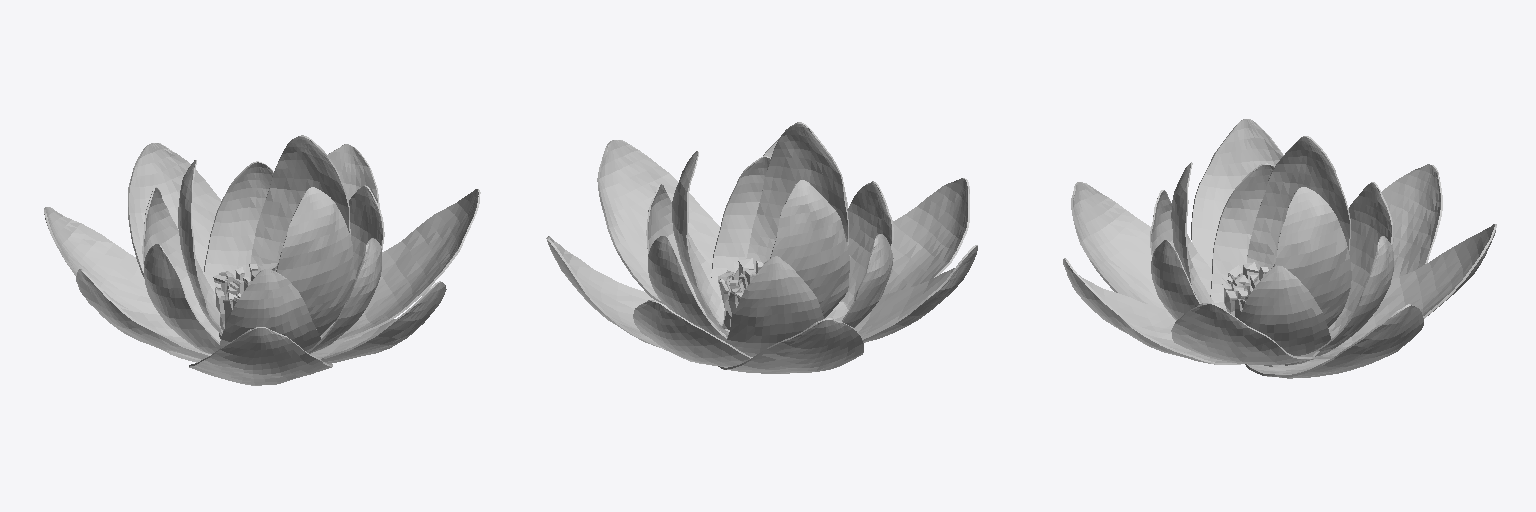
The model's file is lotus1.obj.
3 renders of one model, left to right at view 1: azimuth 30°, elevation 25°; view 2: azimuth 150°, elevation 25°; view 3: azimuth 270°, elevation 25°, orthographic.
Visible parts, largest first — view 1: lotu_petal_13, lotu_petal_02, lotu_petal_14, lotu_petal_00, lotu_petal_06, lotu_petal_04, lotu_petal_11, lotu_petal_08, lotu_petal_09, lotu_petal_05, lotu_petal_03, lotu_petal_15 (+5 smaller); view 2: lotu_petal_02, lotu_petal_15, lotu_petal_13, lotu_petal_04, lotu_petal_10, lotu_petal_06, lotu_petal_05, lotu_petal_00, lotu_petal_01, lotu_petal_07, lotu_petal_08, lotu_petal_11 (+4 smaller); view 3: lotu_petal_14, lotu_petal_04, lotu_petal_15, lotu_petal_05, lotu_petal_12, lotu_petal_00, lotu_petal_06, lotu_petal_02, lotu_petal_03, lotu_petal_01, lotu_petal_09, lotu_petal_10 (+5 smaller).
Part boxes in pixels (bbox=[...]): lotu_petal_13: bbox=[276, 187, 354, 335]; lotu_petal_02: bbox=[320, 189, 480, 343]; lotu_petal_14: bbox=[250, 135, 350, 279]; lotu_petal_00: bbox=[128, 143, 220, 276]; lotu_petal_06: bbox=[44, 207, 200, 362]; lotu_petal_04: bbox=[189, 327, 332, 385]; lotu_petal_11: bbox=[204, 161, 273, 292]; lotu_petal_08: bbox=[218, 269, 320, 351]; lotu_petal_09: bbox=[144, 244, 219, 353]; lotu_petal_05: bbox=[76, 269, 220, 359]; lotu_petal_03: bbox=[310, 281, 446, 363]; lotu_petal_15: bbox=[178, 160, 222, 335]; lotu_petal_02: bbox=[597, 140, 729, 331]; lotu_petal_15: bbox=[770, 180, 849, 317]; lotu_petal_13: bbox=[746, 122, 848, 271]; lotu_petal_04: bbox=[865, 178, 969, 342]; lotu_petal_10: bbox=[726, 256, 824, 356]; lotu_petal_06: bbox=[718, 318, 863, 373]; lotu_petal_05: bbox=[825, 245, 977, 342]; lotu_petal_00: bbox=[633, 300, 752, 366]; lotu_petal_01: bbox=[546, 236, 706, 364]; lotu_petal_07: bbox=[711, 156, 770, 298]; lotu_petal_08: bbox=[840, 181, 893, 309]; lotu_petal_11: bbox=[648, 236, 726, 341]; lotu_petal_14: bbox=[1275, 187, 1351, 327]; lotu_petal_04: bbox=[1071, 182, 1166, 309]; lotu_petal_15: bbox=[1247, 136, 1350, 270]; lotu_petal_05: bbox=[1191, 119, 1283, 310]; lotu_petal_12: bbox=[1239, 265, 1330, 364]; lotu_petal_00: bbox=[1313, 224, 1496, 359]; lotu_petal_06: bbox=[1381, 164, 1442, 278]; lotu_petal_02: bbox=[1171, 303, 1319, 364]; lotu_petal_03: bbox=[1063, 258, 1240, 364]; lotu_petal_01: bbox=[1245, 304, 1423, 378]; lotu_petal_09: bbox=[1210, 163, 1274, 302]; lotu_petal_10: bbox=[1335, 182, 1392, 321].
Bounding box in the file's own units: 5.49 × 2.7 × 5.39.